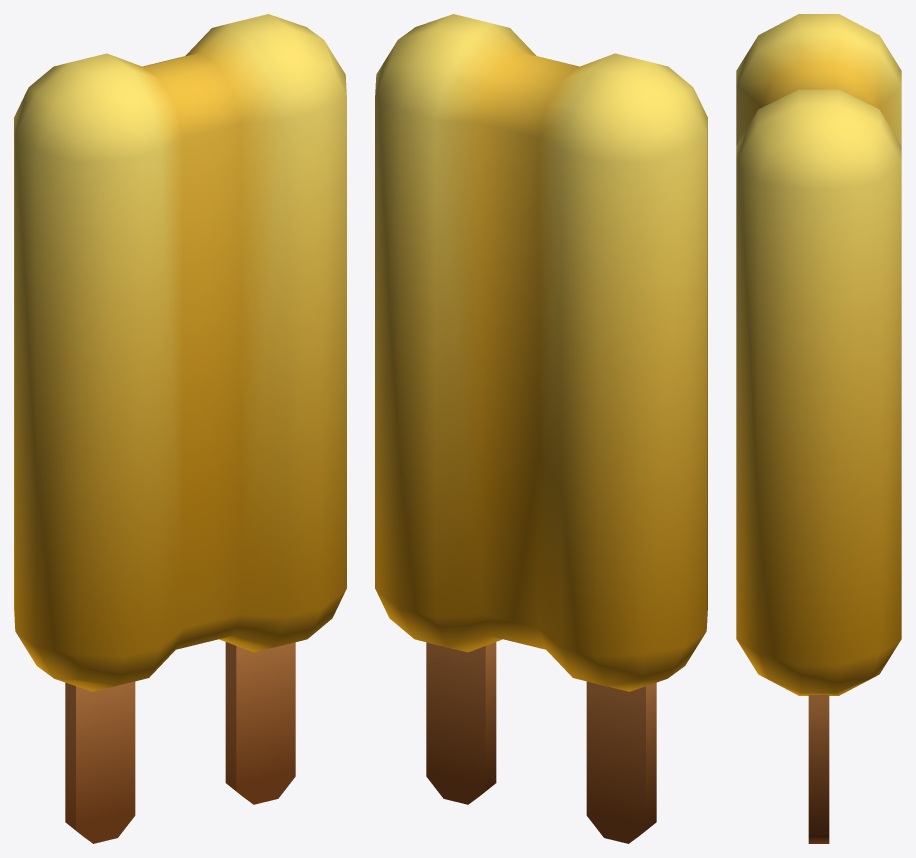
The model's file is m_DoublePopsicle08.fbx.
3 renders of one model, left to right at view 1: azimuth 30°, elevation 25°; view 2: azimuth 150°, elevation 25°; view 3: azimuth 270°, elevation 25°, orthographic. The views are drawn at different scales.
Parts seen in each view (by area): view 1: m_DoublePopsicle08_L, m_DoublePopsicle08_R; view 2: m_DoublePopsicle08_L, m_DoublePopsicle08_R; view 3: m_DoublePopsicle08_R, m_DoublePopsicle08_L.
Boxes of the visible parts, x1,y1,x2,y2 form: m_DoublePopsicle08_L: (14, 53, 211, 843); m_DoublePopsicle08_R: (159, 14, 346, 804); m_DoublePopsicle08_L: (510, 53, 707, 843); m_DoublePopsicle08_R: (375, 14, 562, 804); m_DoublePopsicle08_R: (736, 80, 901, 843); m_DoublePopsicle08_L: (736, 14, 901, 145).
Bounding box in the file's own units: 9.64 × 22.99 × 4.64.
